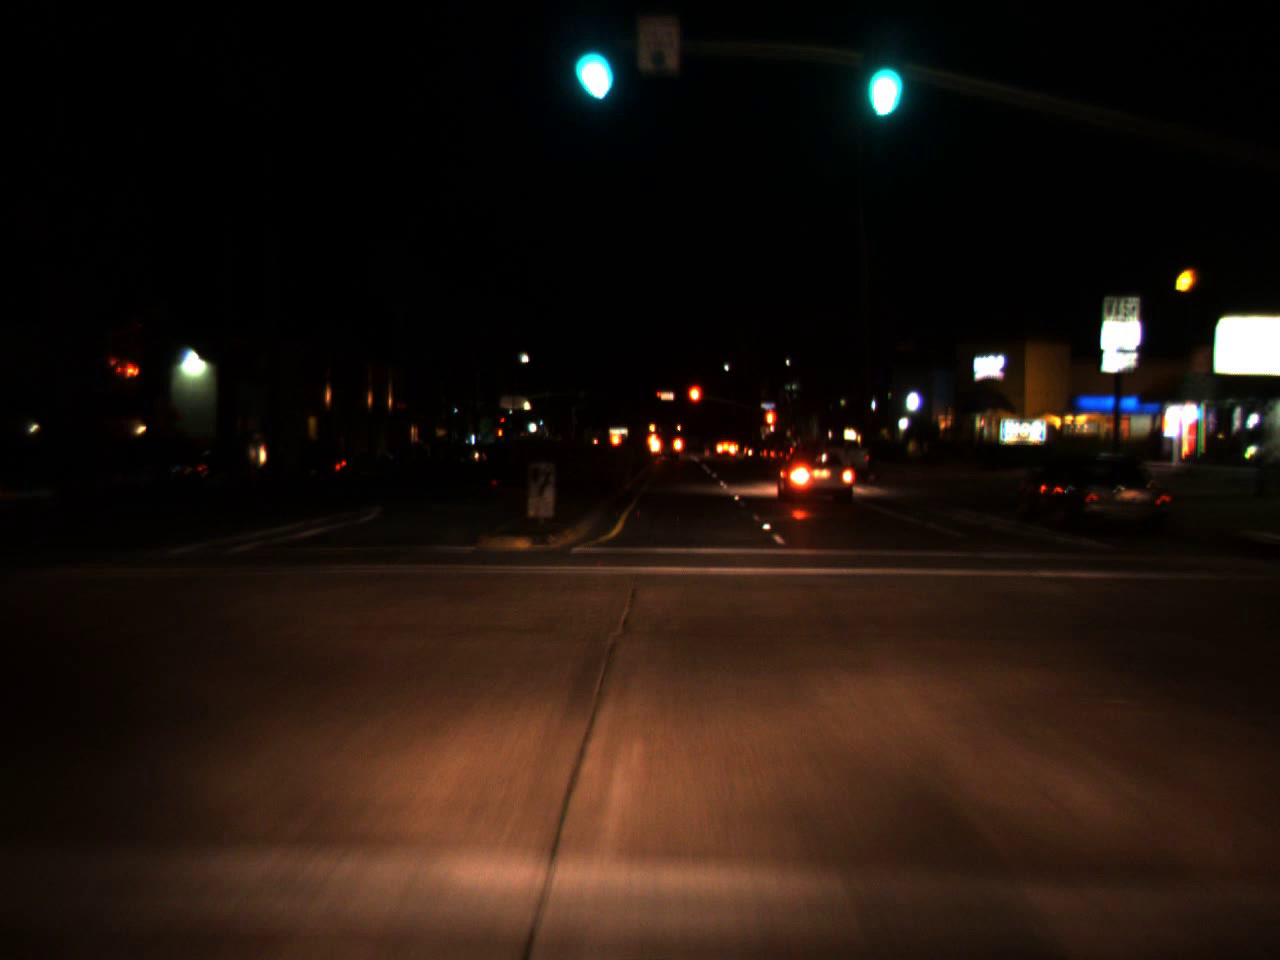go: (860, 39, 903, 120), (567, 27, 613, 99)
stop: (686, 383, 703, 423), (763, 406, 776, 449), (656, 391, 662, 401)
